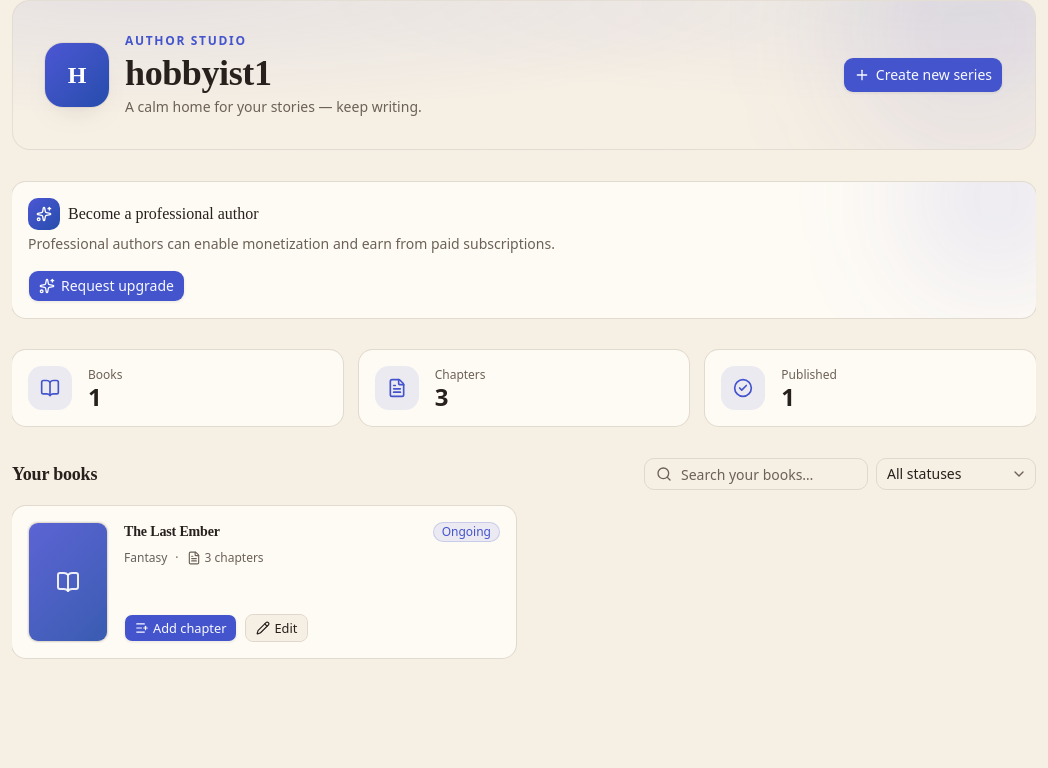
Test: AuthorDashboardPage upgrade section › lets a hobbyist request an upgrade
The image size is (1048, 768).
Click the button "Request upgrade" at point(106, 286), box [28,270,185,302]
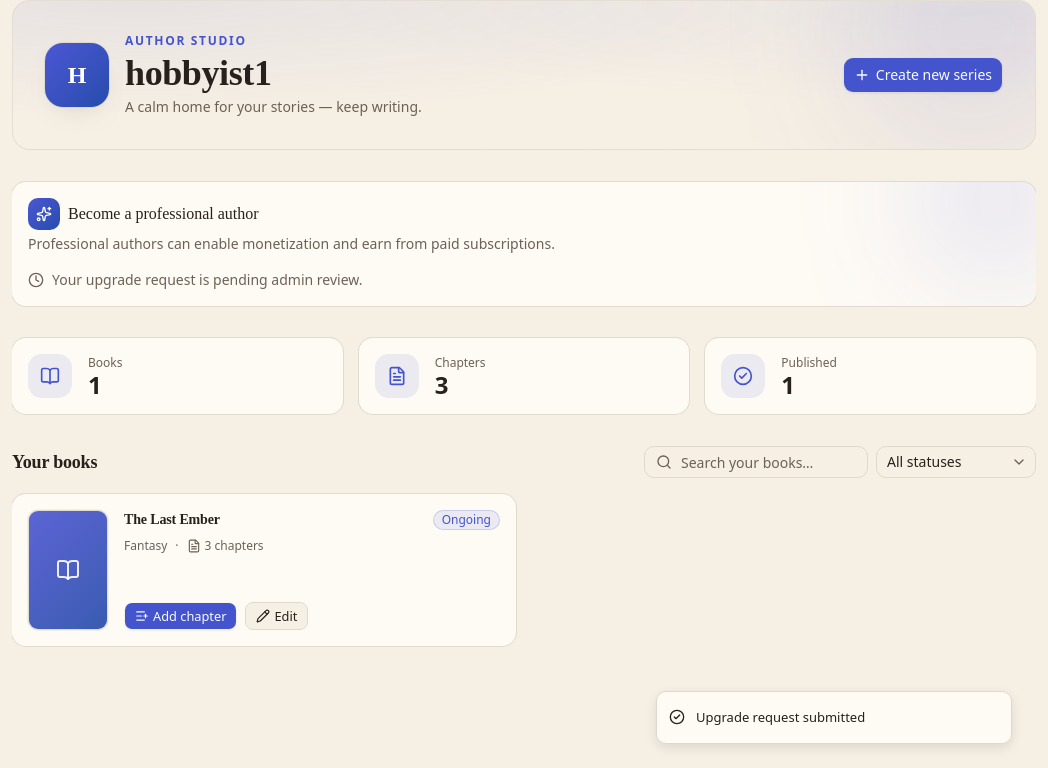
Now the text "Upgrade request submitted" is shown, box [696,708,865,727]
